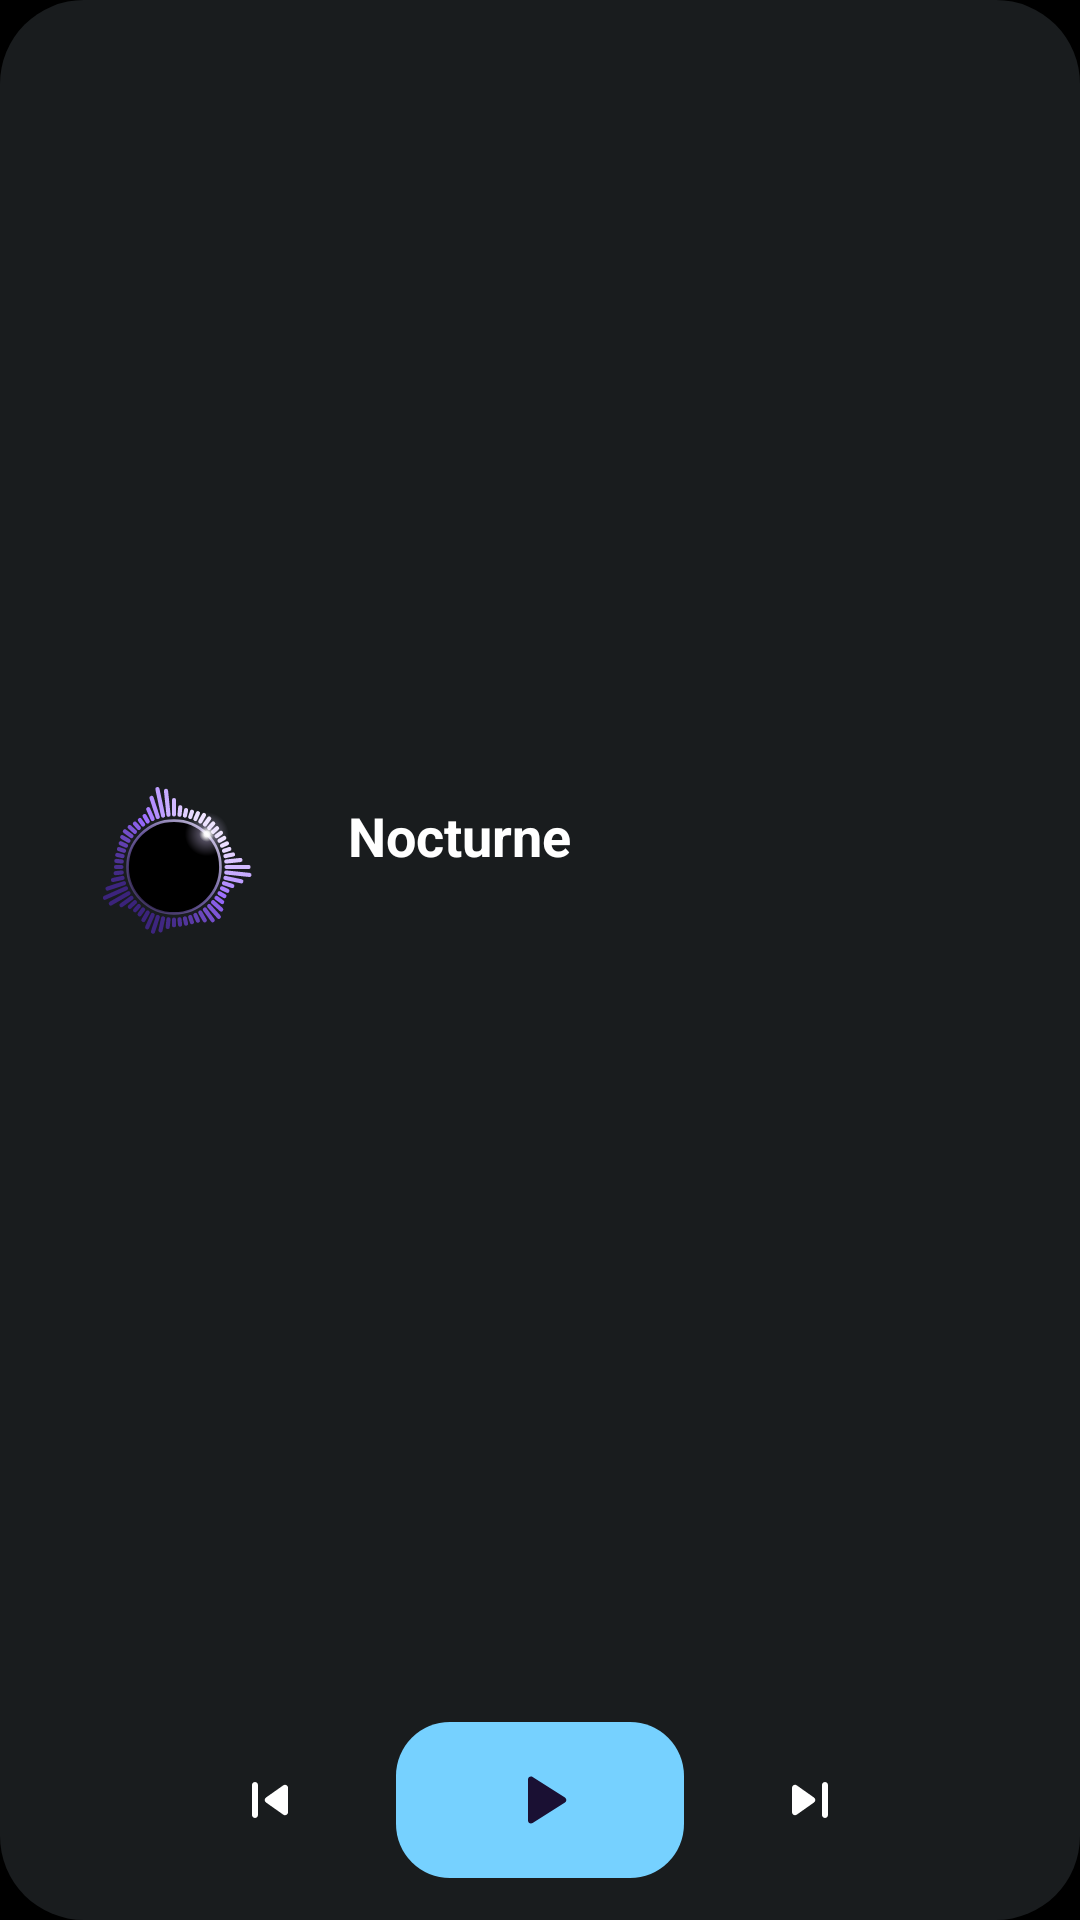

Icons on this 1080*1920 Android screen, each with the point to tap as (x,y):
Next: (810,1800)
Play: (540,1800)
Previous: (270,1800)
